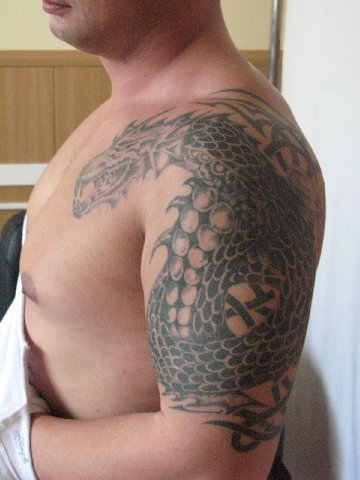tatu6_drakon: (69, 74, 336, 457)
